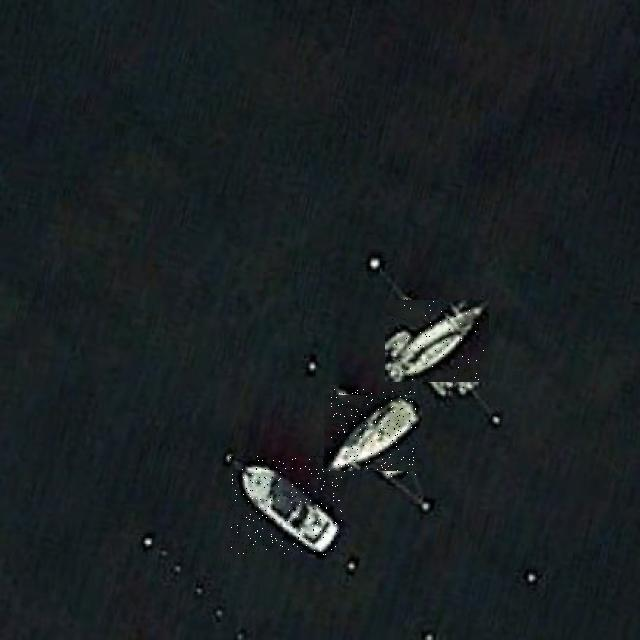boat: (230, 456, 344, 555), (390, 295, 484, 388), (330, 389, 417, 477)
